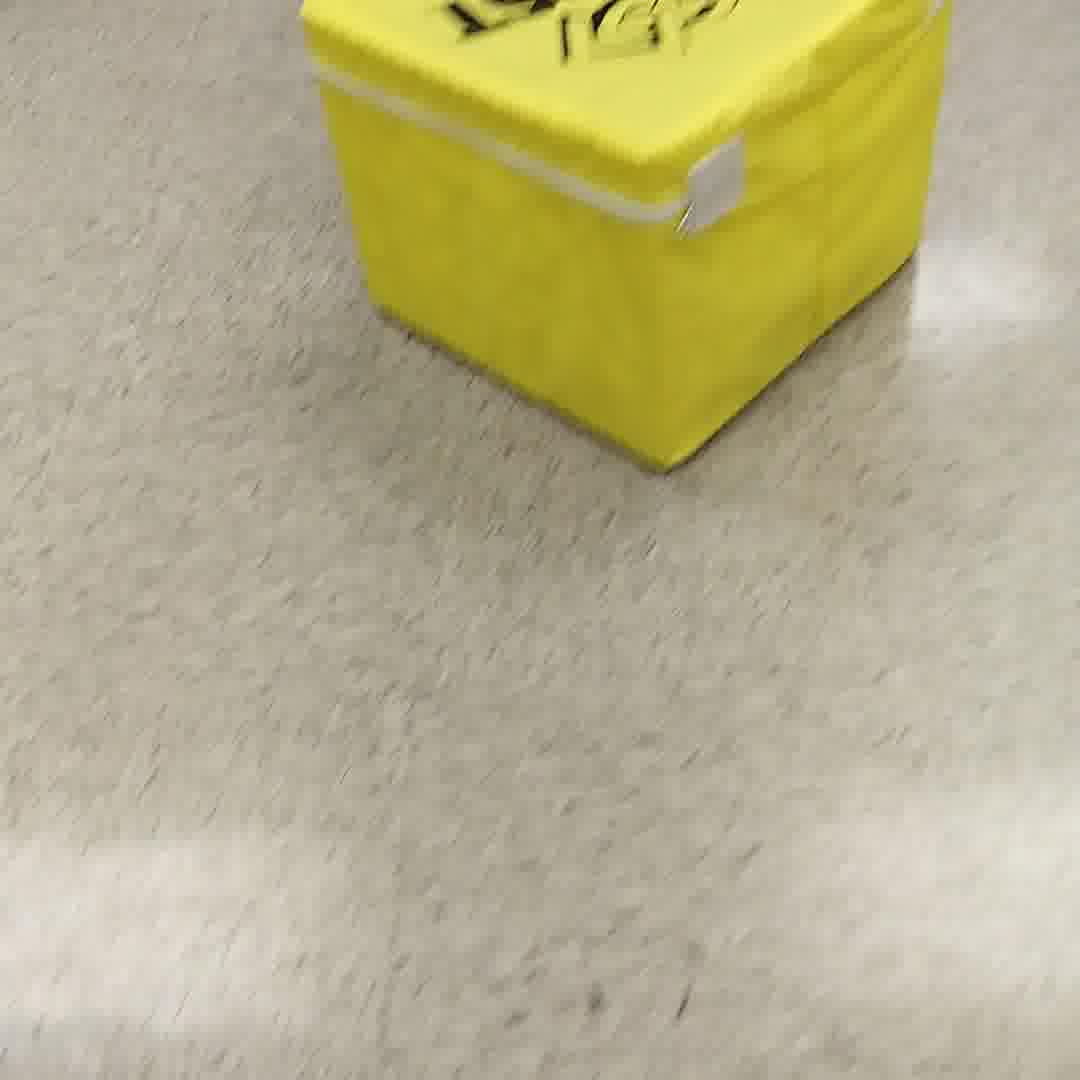box: (303, 7, 937, 491)
